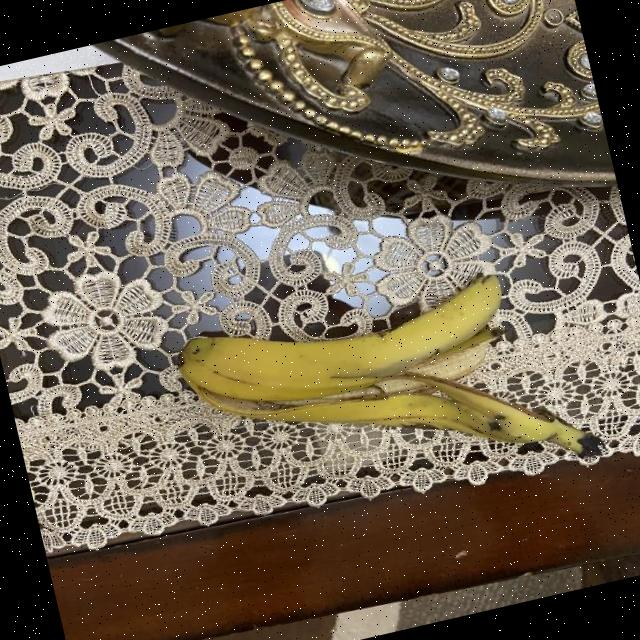banana-peel: (170, 249, 604, 544), (170, 263, 518, 432)
